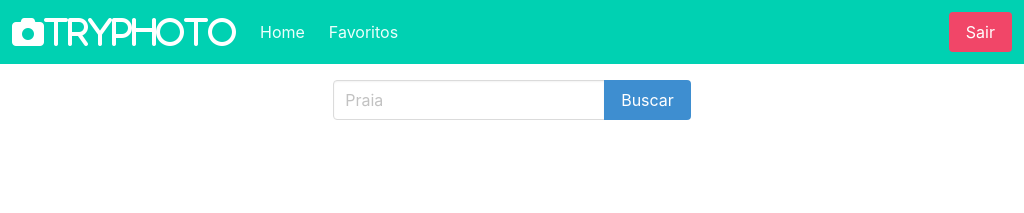
Test: Ao entrar na home da aplicação › Ao pesquisar por um termo que não tras resultados, um aviso de "Nenhum resultado encontrado" deve aparecer
Type "alksdjflk" into the field with placeholder "Praia" at (469, 100), box [333,80,605,120]
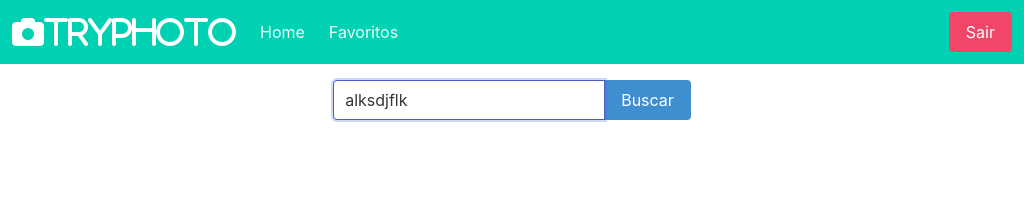
Click the button "Buscar" at (648, 100), box [604,80,691,120]
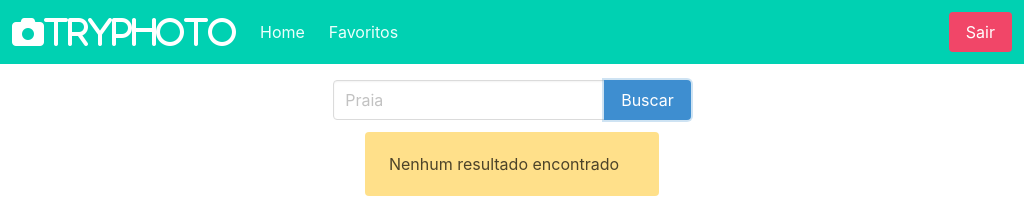
Expected: the text "Nenhum resultado encontrado" is shown, [365,132,659,196]
